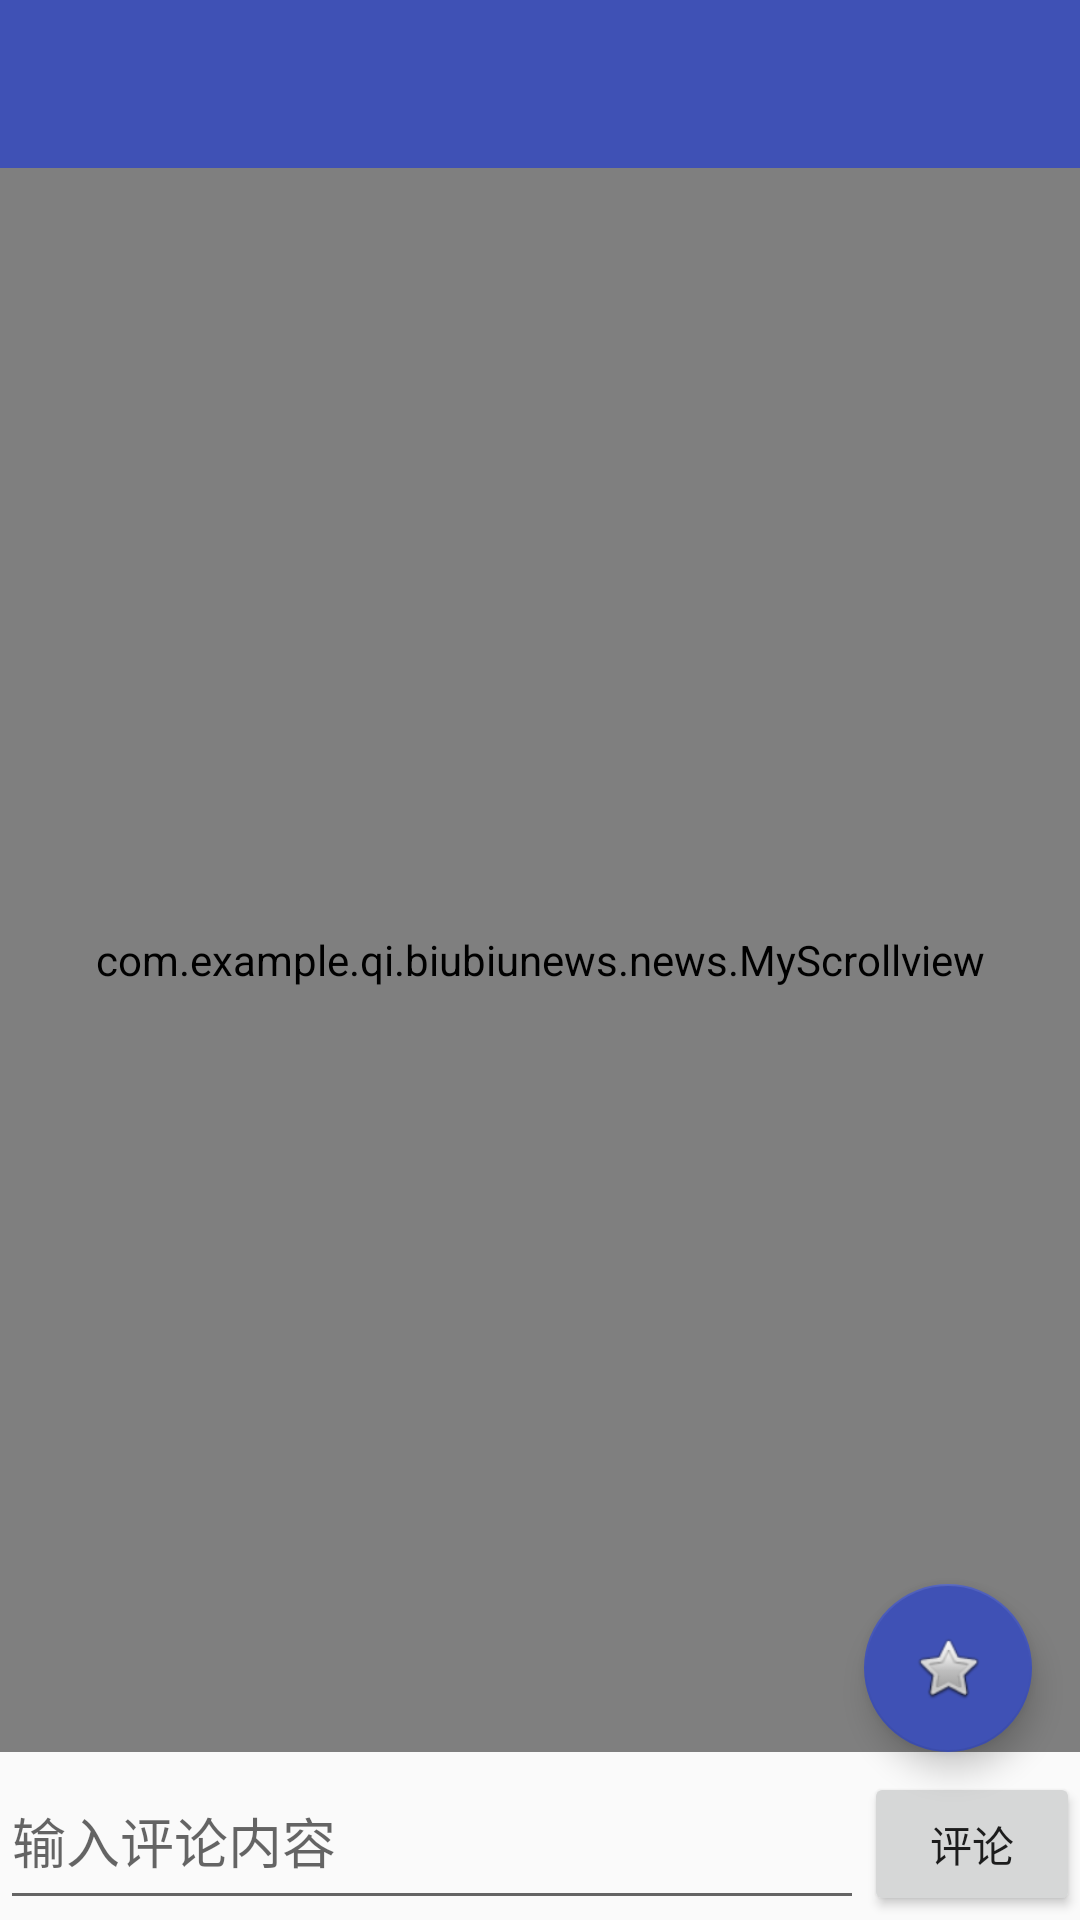

Screen size 1080×1920. Icon name, then its center in pixels as (x=x, y=y):
star: (x=948, y=1668)
